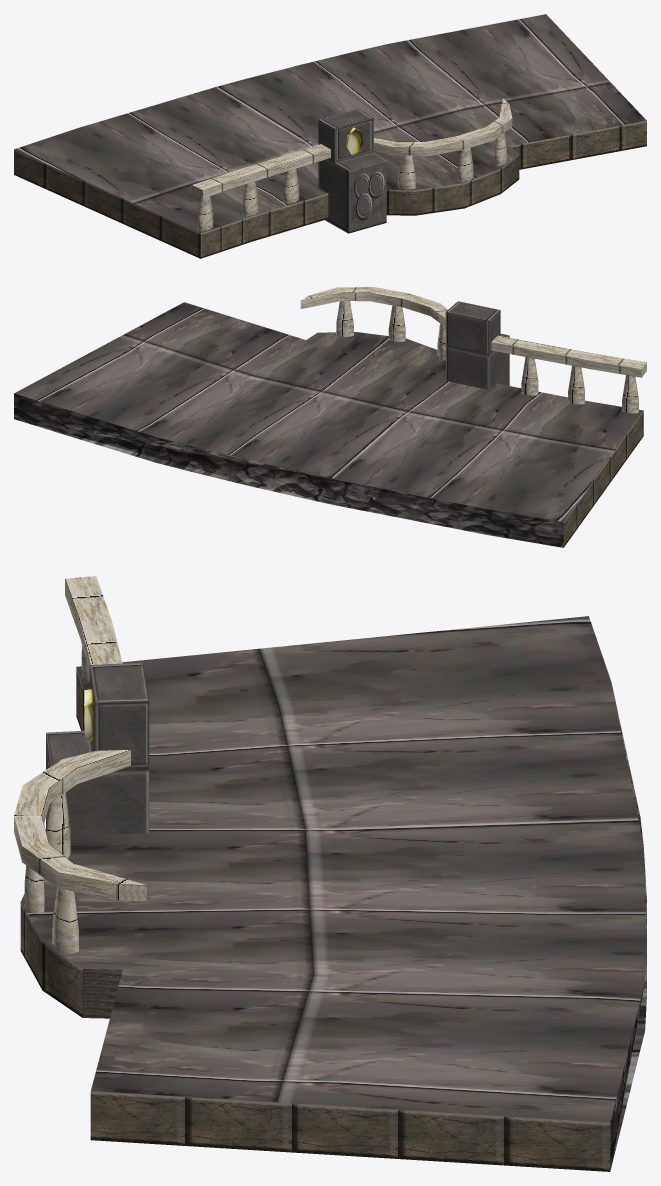
The model's file is INST_SM_WALKWAYB.fbx.
3 renders of one model, top to bottom at view 1: azimuth 30°, elevation 25°; view 2: azimuth 150°, elevation 25°; view 3: azimuth 270°, elevation 25°, orthographic. The views are drawn at different scales.
Visible parts, largest first — view 1: INST_SM_WALKWAYB; view 2: INST_SM_WALKWAYB; view 3: INST_SM_WALKWAYB.
Boxes of the visible parts, x1,y1,x2,y2 form: INST_SM_WALKWAYB: (14, 14, 646, 258); INST_SM_WALKWAYB: (14, 287, 646, 547); INST_SM_WALKWAYB: (14, 576, 646, 1171).
Size of the model in its own units: 134900 by 23218 by 71221.
Materials: 6 (6 with a texture image).
